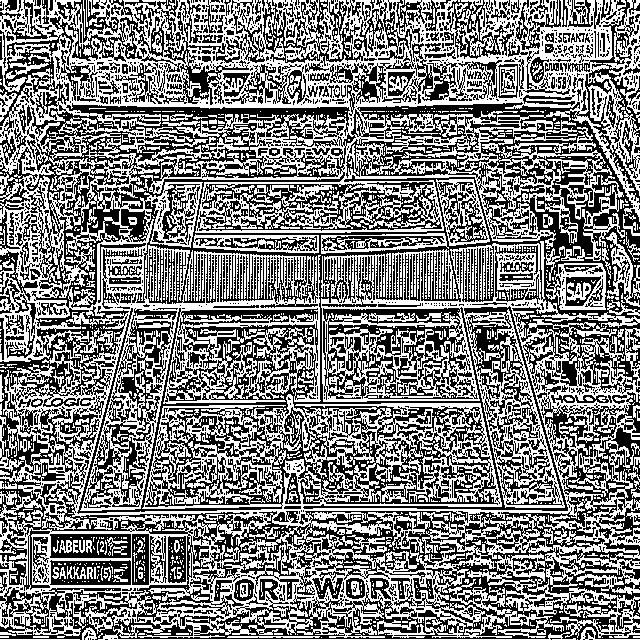left side: (434, 178, 567, 509), (77, 180, 203, 511)
player: (272, 392, 310, 524), (337, 91, 362, 182)
